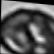correct: (0, 6, 54, 54)
